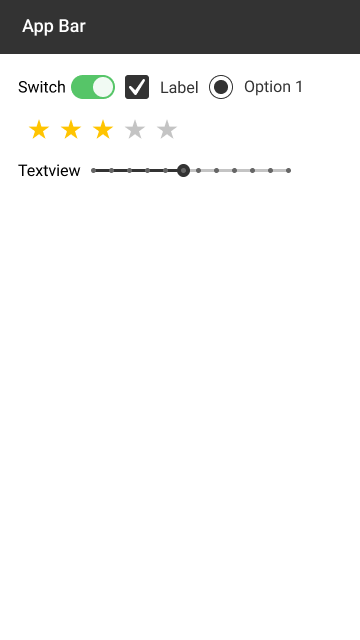checkBox: (123, 73, 199, 101)
radioButton: (206, 74, 305, 100)
ratingBar: (26, 115, 179, 145)
slider: (87, 160, 293, 178)
switch: (14, 74, 117, 100)
textView: (18, 161, 82, 180)
toolbar: (3, 1, 360, 55)
